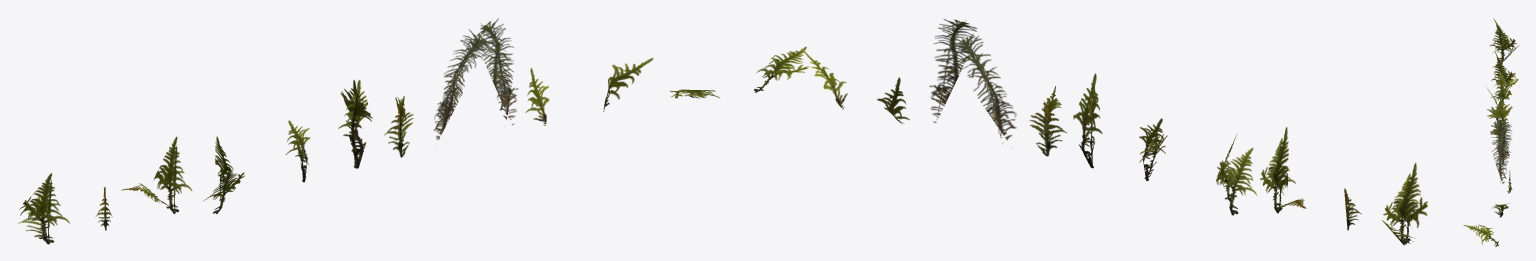
Rendered from moss_01.glb.
The picture shows the model from 3 angles, left to right: view 1: azimuth 30°, elevation 25°; view 2: azimuth 150°, elevation 25°; view 3: azimuth 270°, elevation 25°; orthographic projection. The views are drawn at different scales.
Parts seen in each view (by area): view 1: moss_01_c_LOD0; view 2: moss_01_c_LOD0; view 3: moss_01_c_LOD0.
Part boxes in pixels (x1,y1,x2,y2): moss_01_c_LOD0: [18, 18, 719, 244]; moss_01_c_LOD0: [754, 19, 1427, 245]; moss_01_c_LOD0: [1463, 18, 1519, 246].
Bounding box in the file's own units: 0.2153 × 0.0396 × 0.0294.
Materials: 1 (1 with a texture image).
